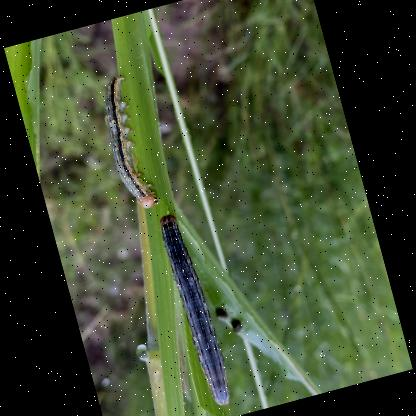Fall Armyworm Larvae: (149, 204, 242, 414), (86, 70, 165, 218)
